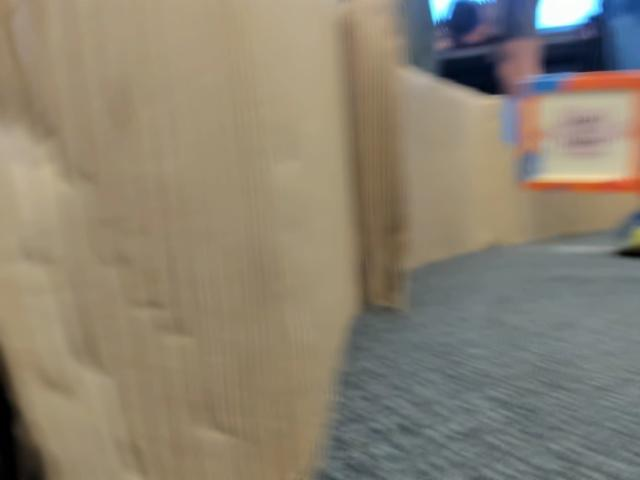Do Not Go Around: (539, 109, 631, 156)
